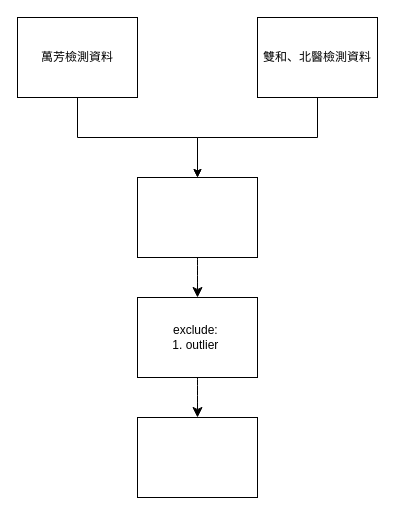
Some shapes in this 395 by 515 pixel diagram are drawn without their labels. Each missing label, with the box of its shape:
三院檢測項目: (136, 176, 258, 258)
三院清整完畢的lab檔: (136, 416, 258, 498)
